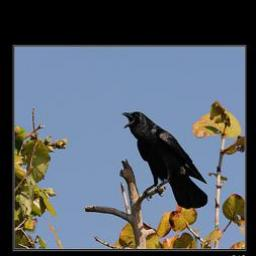Crow: (122, 109, 208, 208)
